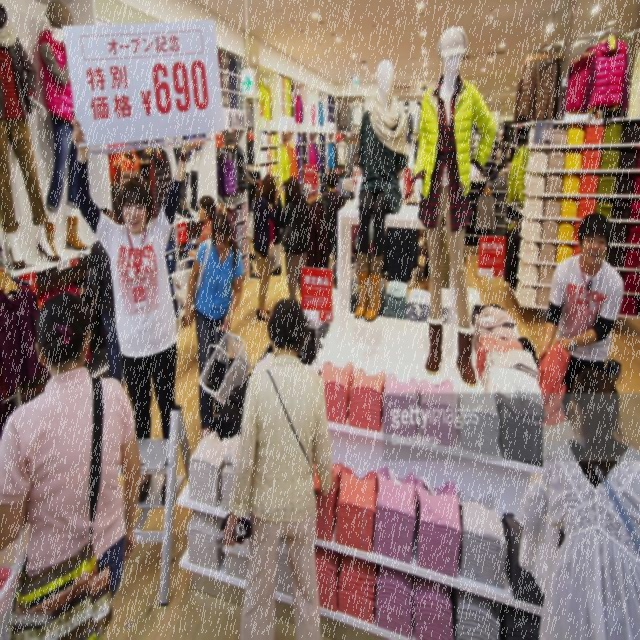pessoa: (342, 24, 497, 383), (70, 117, 206, 508), (0, 288, 144, 640), (220, 292, 334, 639), (513, 363, 639, 639), (536, 210, 626, 421), (184, 212, 244, 438), (276, 174, 310, 302), (252, 174, 280, 322), (320, 170, 344, 286), (170, 134, 204, 210), (186, 193, 218, 258), (268, 190, 283, 275), (495, 142, 503, 172), (542, 120, 552, 144)
